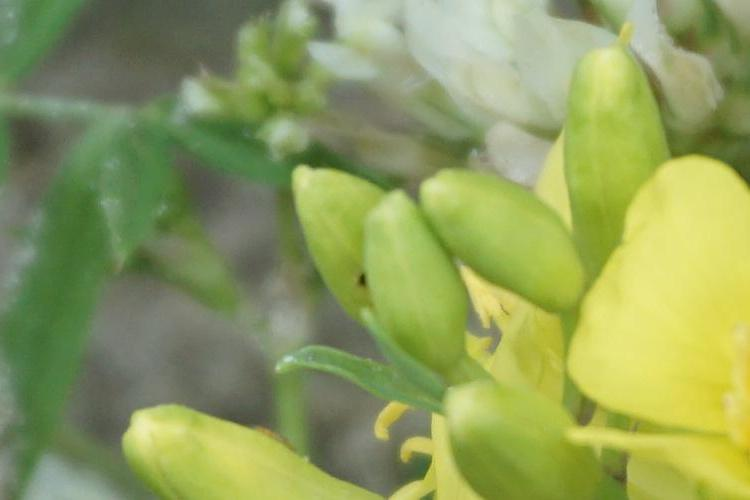bud: (126, 406, 375, 495), (563, 46, 663, 257), (427, 172, 589, 289), (439, 388, 594, 494), (371, 185, 456, 376), (297, 163, 385, 323)
white: (330, 12, 586, 151)
yellow: (577, 159, 749, 479)
